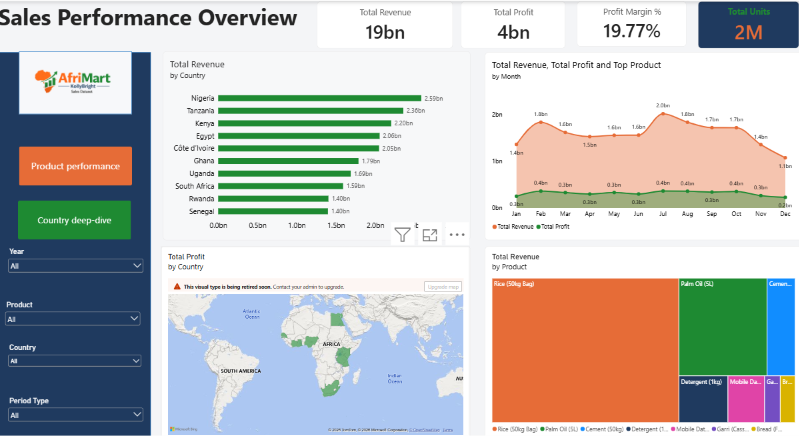

This screenshot's page, from the dashboard's own definition file:
{"tool":"powerbi","page":{"name":"Overview","canvas":[1920,1080],"ordinal":0},"visuals":[{"type":"cardVisual","fields":{"Data":["_Measures.Total Revenue"]},"box":[761.7,0,324.2,112.2],"z":0},{"type":"cardVisual","fields":{"Data":["_Measures.Total Profit"]},"box":[1105.5,0,249.4,112.2],"z":1000},{"type":"cardVisual","fields":{"Data":["_Measures.Profit Margin %"]},"box":[1380.8,0,261.8,108.1],"z":2000},{"type":"cardVisual","fields":{"Data":["_Measures.Total Units"]},"box":[1670.6,0,241,112.2],"z":3000},{"type":"lineChart","fields":{"Category":["DimDate.Month"],"Y":["_Measures.Total Revenue","_Measures.Total Profit"]},"box":[1162.9,121.2,757.1,447.8],"z":4000},{"type":"clusteredBarChart","fields":{"Category":["Sales.Country"],"Y":["_Measures.Total Revenue"]},"box":[393.7,119.8,733.2,450.8],"z":5000},{"type":"treemap","fields":{"Group":["Sales.Product"],"Values":["_Measures.Total Revenue"]},"box":[1162.9,583.9,757.1,467.6],"z":6000},{"type":"filledMap","fields":{"Category":["Sales.Country"]},"box":[388,584.8,738.9,467.9],"z":7000},{"type":"slicer","fields":{"Values":["Sales.Country"]},"box":[95.6,773,268.9,80.7],"z":8000},{"type":"shape","box":[0,120.5,364.5,929.1],"z":9000},{"type":"slicer","fields":{"Values":["DimDate.Year"]},"box":[18.2,586.6,332.5,79],"z":10000},{"type":"shape","box":[50.5,120,269,150],"z":11000},{"type":"slicer","fields":{"Values":["Sales.Period Type"]},"box":[18.2,943.6,332.5,79],"z":12000},{"type":"slicer","fields":{"Values":["Sales.Product"]},"box":[10.9,714.1,332.5,95.6],"z":13000},{"type":"textbox","box":[0,0,785.5,95.6],"z":14000},{"type":"image","box":[0,97,378.2,195.3],"z":15000},{"type":"actionButton","box":[51,346.1,269.7,94],"z":16000},{"type":"actionButton","box":[47.4,473.6,269.7,94],"z":17000},{"type":"slicer","fields":{"Values":["Sales.Country"]},"box":[18.2,816.1,327.9,87.4],"z":18000}]}

Visuals, with their boxes on the page's 1920x1080 design canvas (x1, y1, x2, y2). These are canvas units, not pixel positions in the 799x436 screenshot, which may show the page scaled, cropped or inside an application window:
cardVisual - _Measures.Total Revenue: 762 0 1086 112
cardVisual - _Measures.Total Profit: 1106 0 1355 112
cardVisual - _Measures.Profit Margin %: 1381 0 1643 108
cardVisual - _Measures.Total Units: 1671 0 1912 112
lineChart - DimDate.Month x _Measures.Total Revenue: 1163 121 1920 569
clusteredBarChart - Sales.Country x _Measures.Total Revenue: 394 120 1127 571
treemap - Sales.Product x _Measures.Total Revenue: 1163 584 1920 1052
filledMap - Sales.Country: 388 585 1127 1053
slicer - Sales.Country: 96 773 364 854
shape: 0 120 364 1050
slicer - DimDate.Year: 18 587 351 666
shape: 50 120 320 270
slicer - Sales.Period Type: 18 944 351 1023
slicer - Sales.Product: 11 714 343 810
textbox: 0 0 786 96
image: 0 97 378 292
actionButton: 51 346 321 440
actionButton: 47 474 317 568
slicer - Sales.Country: 18 816 346 904
